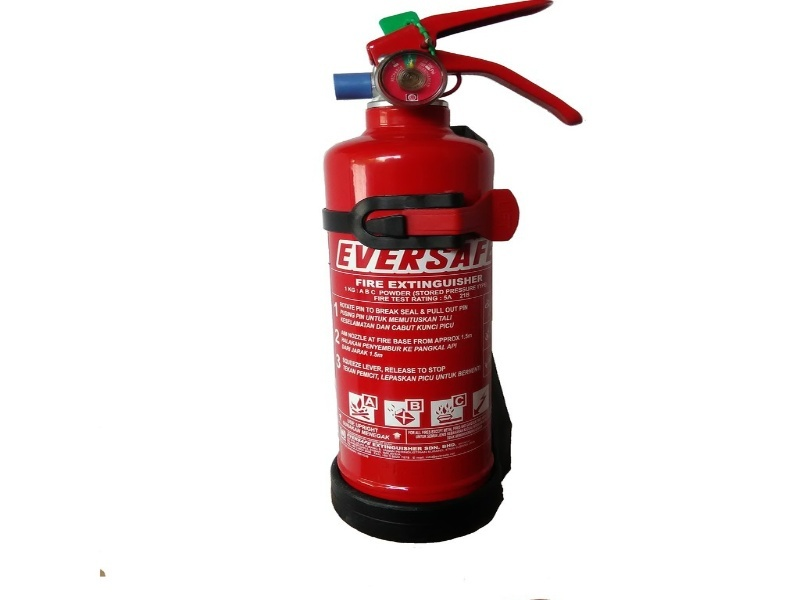fire_extinguisher: (298, 8, 583, 547)
